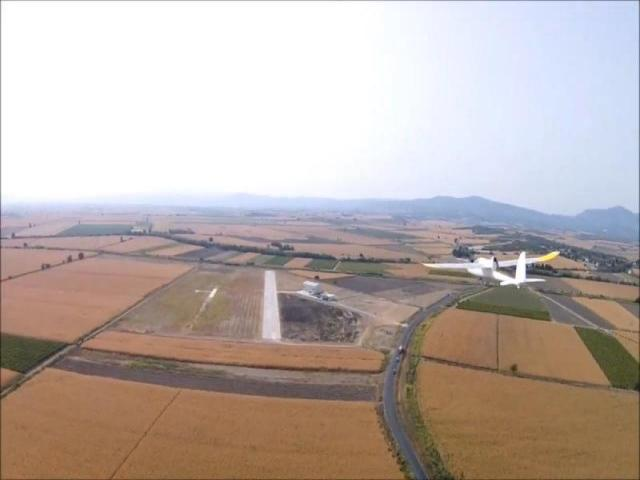hedef: (421, 236, 560, 296)
